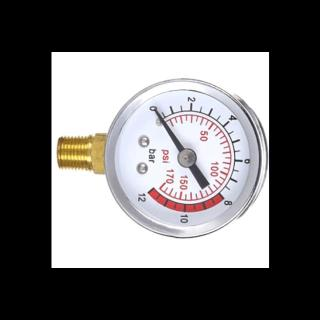gauge: (78, 70, 270, 266), (145, 102, 167, 124), (177, 148, 197, 168), (137, 184, 159, 202), (151, 106, 161, 116)
